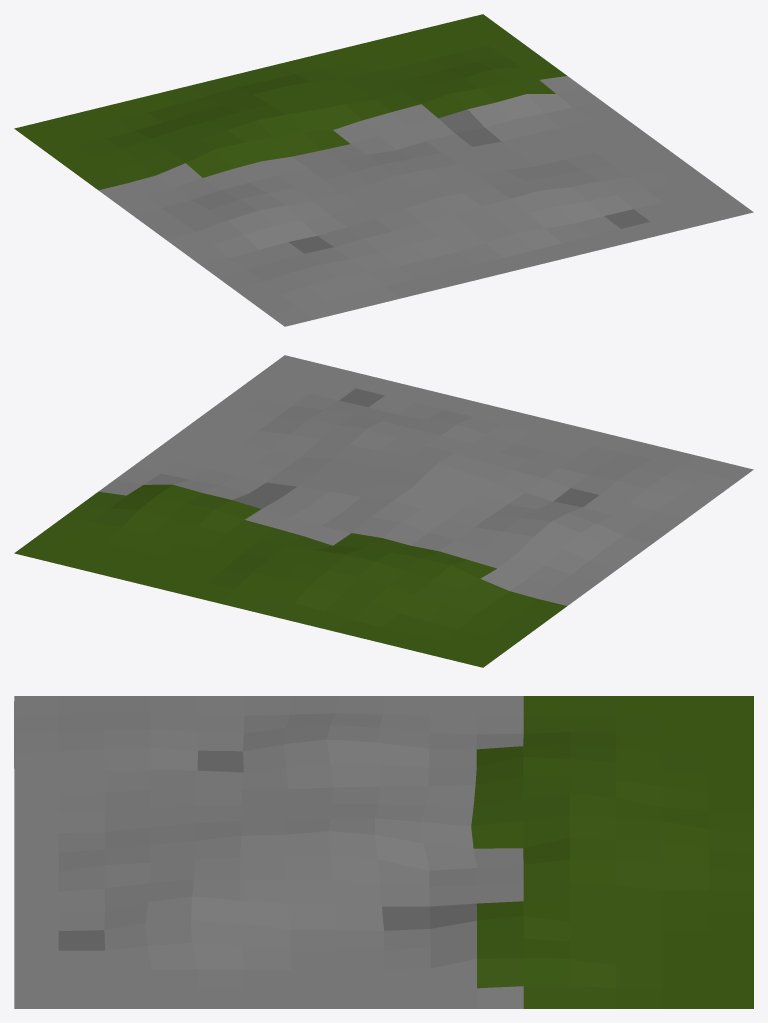
File: ColdGrass1.FBX
3 renders of one model, top to bottom at view 1: azimuth 30°, elevation 25°; view 2: azimuth 150°, elevation 25°; view 3: azimuth 270°, elevation 25°, orthographic. The views are drawn at different scales.
Visible parts, largest first — view 1: Terrain.000; view 2: Terrain.000; view 3: Terrain.000.
Part boxes in pixels (x1,y1,x2,y2): Terrain.000: (14,14,753,326); Terrain.000: (14,355,753,667); Terrain.000: (14,696,753,1008).
Size of the model in its own units: 800 by 800 by 23.83.
